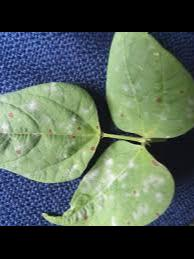embun tepung: (137, 176, 170, 206), (99, 160, 126, 186), (21, 96, 44, 117)
